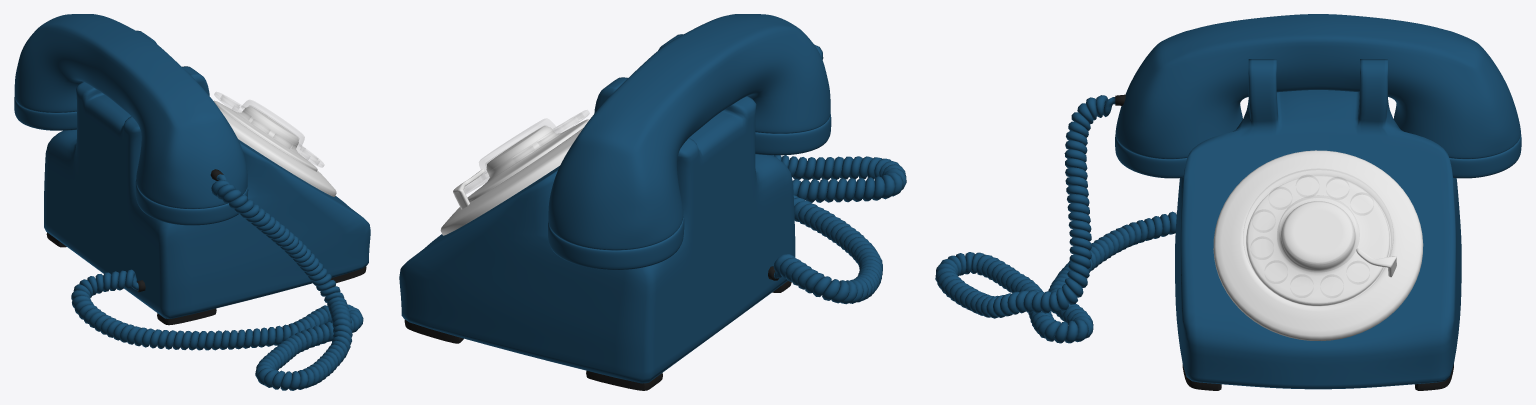
File: Telephone.fbx
3 views of the same model, side by side, from view 1: azimuth 30°, elevation 25°; view 2: azimuth 150°, elevation 25°; view 3: azimuth 270°, elevation 25° (orthographic). The views are drawn at different scales.
Visible parts, largest first — view 1: Phone, Handle, Wire, Numberpad, Dial, Feet.001; view 2: Phone, Handle, Wire, Numberpad, Dial, Feet.001; view 3: Phone, Handle, Numberpad, Wire, Dial, Feet.001.
Part boxes in pixels (x1,y1,x2,y2): Phone: (44,30,370,318); Handle: (14,14,248,225); Wire: (71,169,363,390); Numberpad: (213,100,336,196); Dial: (214,92,324,167); Feet.001: (46,232,366,325); Phone: (399,34,795,383); Handle: (548,14,831,269); Wire: (768,44,906,304); Numberpad: (440,119,589,235); Dial: (464,110,589,193); Feet.001: (404,281,791,390); Phone: (1175,59,1461,389); Handle: (1115,14,1521,178); Numberpad: (1213,150,1423,340); Wire: (935,94,1176,343); Dial: (1243,168,1393,304); Feet.001: (1182,364,1453,390).
Size of the model in its own units: 1111 by 829 by 1661.
